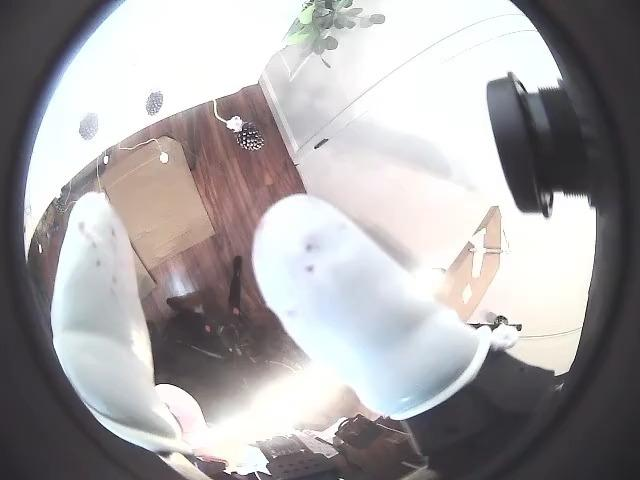berry: (234, 123, 263, 151), (79, 112, 97, 140), (146, 90, 163, 115)
gripper: (252, 194, 490, 419), (51, 192, 180, 452)
lense: (0, 0, 183, 479), (504, 234, 639, 479), (539, 0, 639, 230)
